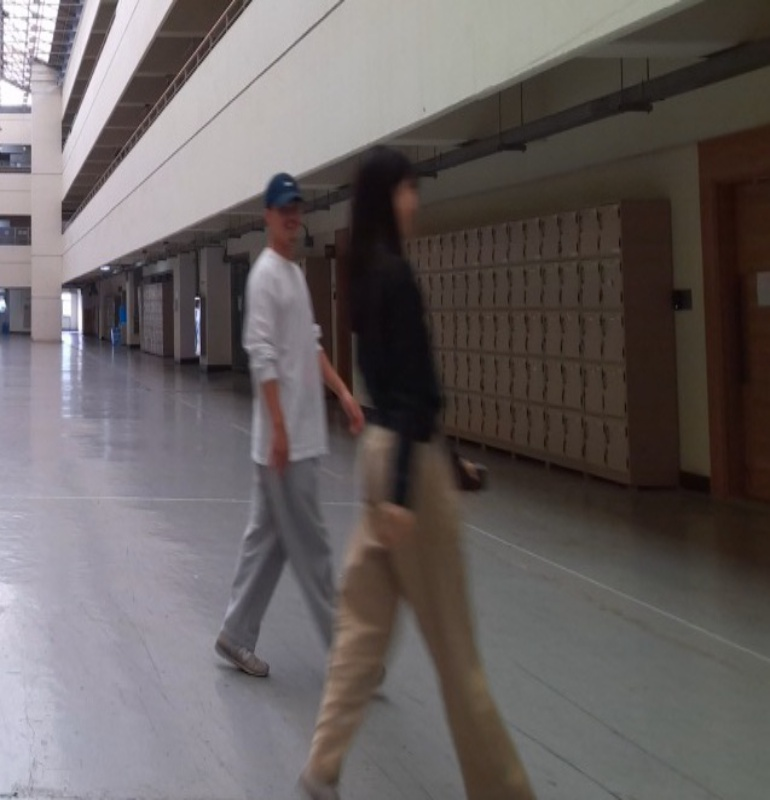person: (294, 142, 539, 800)
